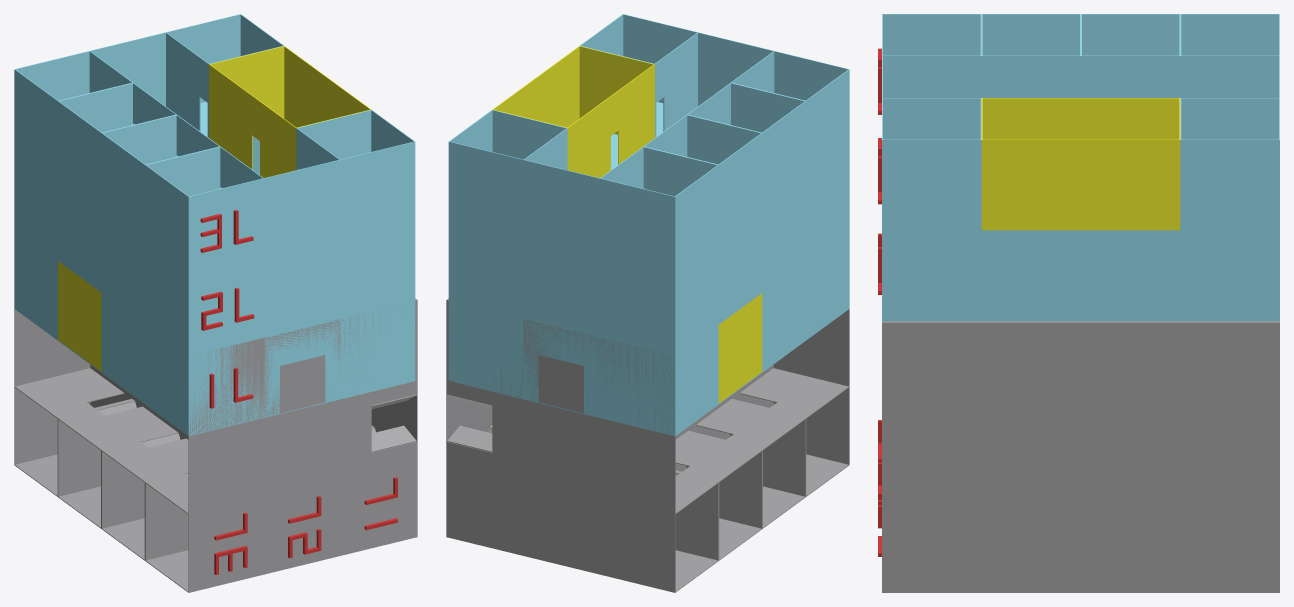
File: 第十六组.glb
3 views of the same model, side by side, from view 1: azimuth 30°, elevation 25°; view 2: azimuth 150°, elevation 25°; view 3: azimuth 270°, elevation 25° (orthographic). The views are drawn at different scales.
Size of the model in its own units: 0.0152 by 0.025 by 0.0202.
